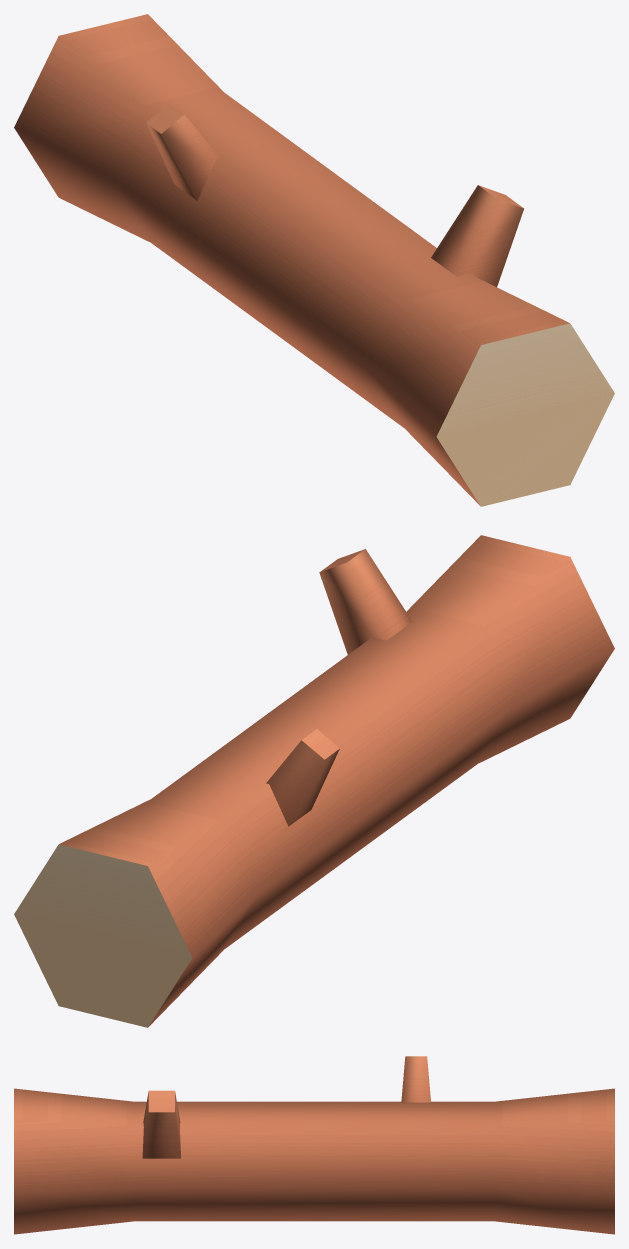
File: tree-log.glb
3 renders of one model, top to bottom at view 1: azimuth 30°, elevation 25°; view 2: azimuth 150°, elevation 25°; view 3: azimuth 270°, elevation 25°, orthographic. The views are drawn at different scales.
Visible parts, largest first — view 1: tree-log; view 2: tree-log; view 3: tree-log.
Boxes of the visible parts, bbox=[...] form: tree-log: bbox=[14, 14, 614, 506]; tree-log: bbox=[14, 535, 614, 1027]; tree-log: bbox=[14, 1056, 614, 1234].
Size of the model in its own units: 0.2495 by 0.2771 by 1.
1 material, 1 textured.
